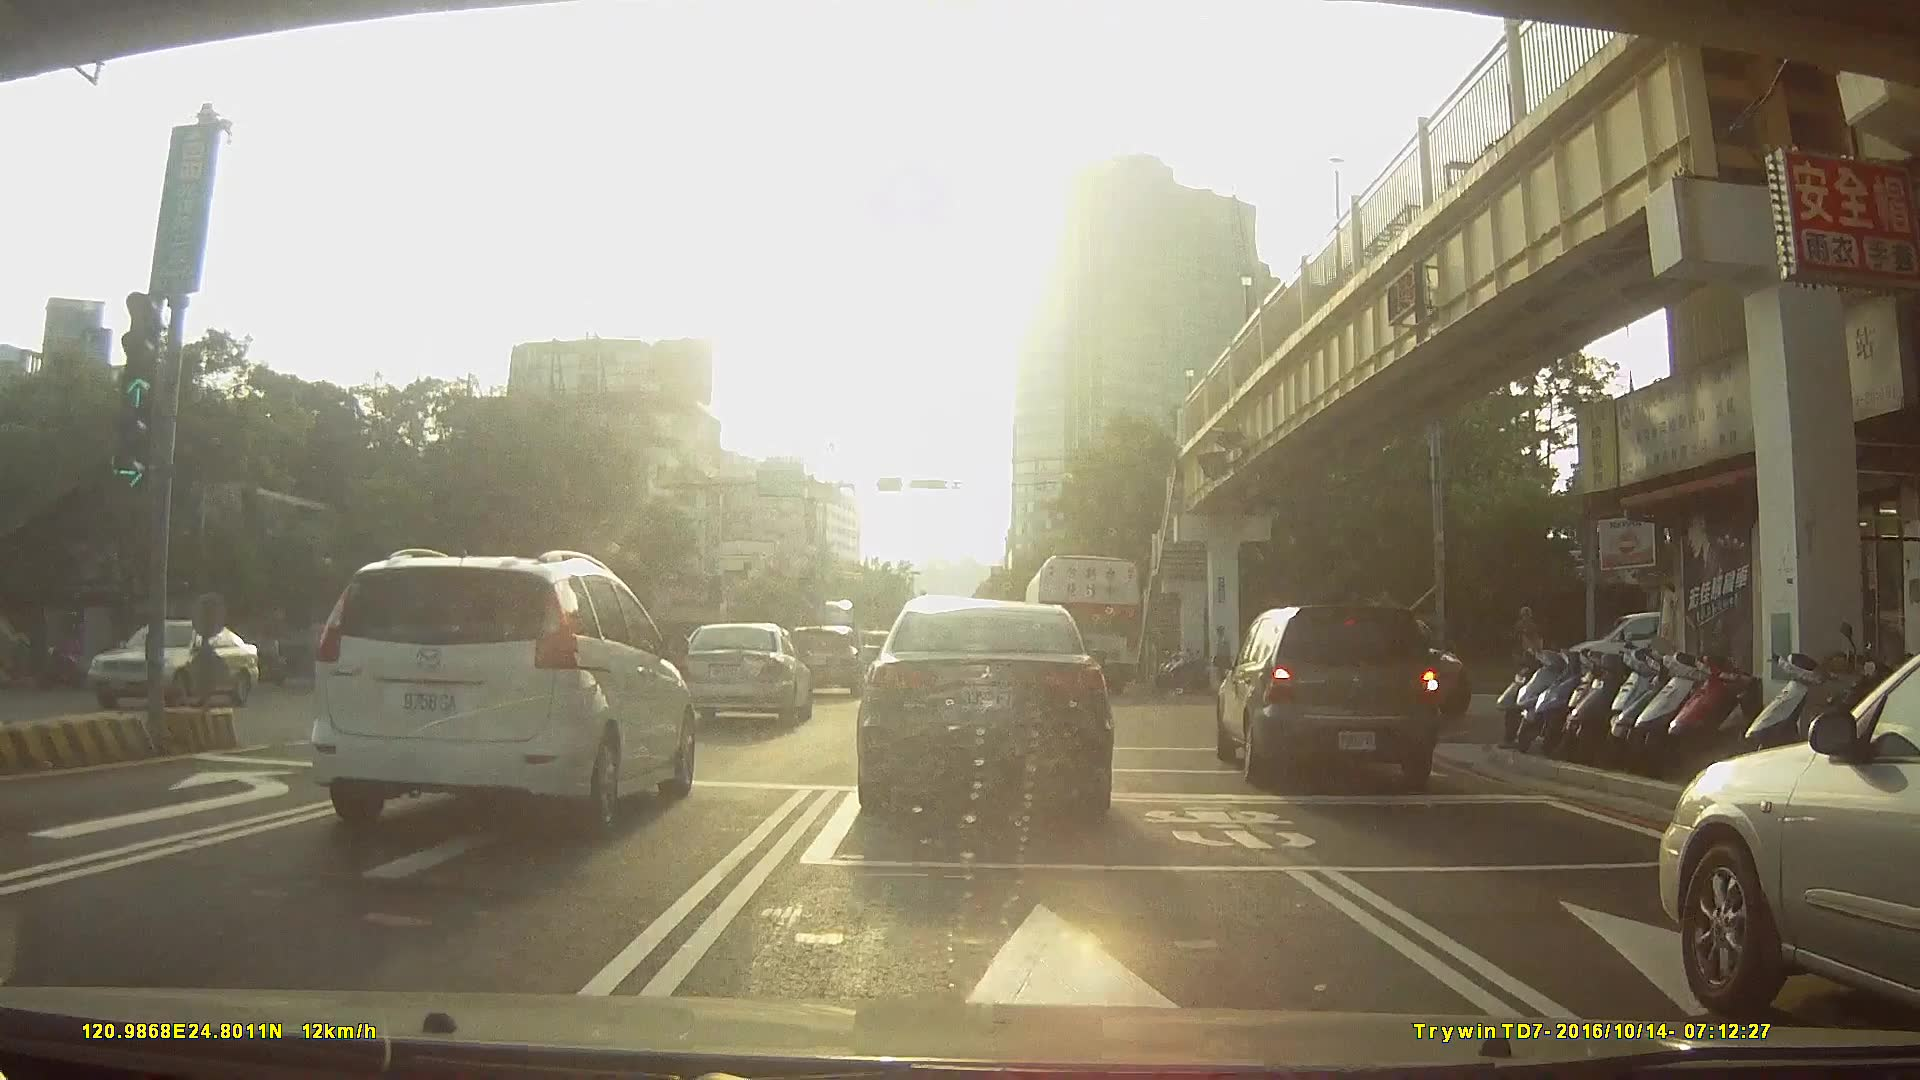pedestrian: (1212, 623, 1239, 690)
vehicle: (309, 545, 697, 832), (1661, 653, 1920, 1021), (855, 591, 1114, 821), (1212, 600, 1454, 792), (86, 620, 275, 711), (1026, 557, 1143, 697), (680, 622, 815, 728), (1356, 616, 1493, 714), (783, 624, 865, 699)
